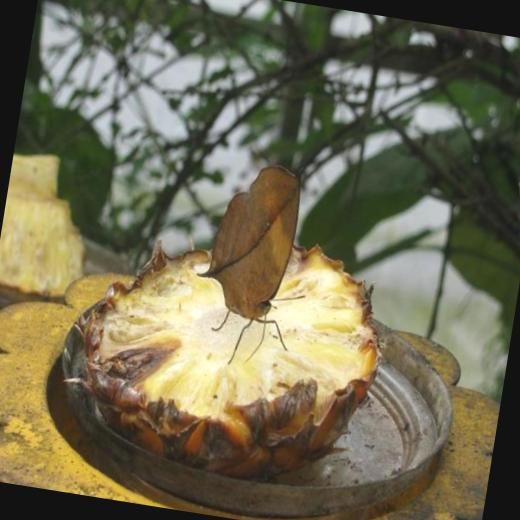Mango: (54, 205, 398, 499)
